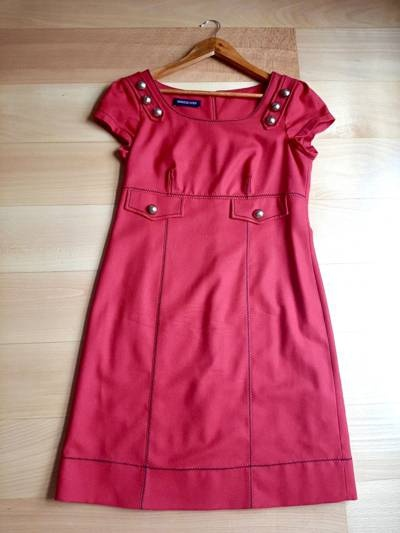Dress: (28, 51, 364, 523)
